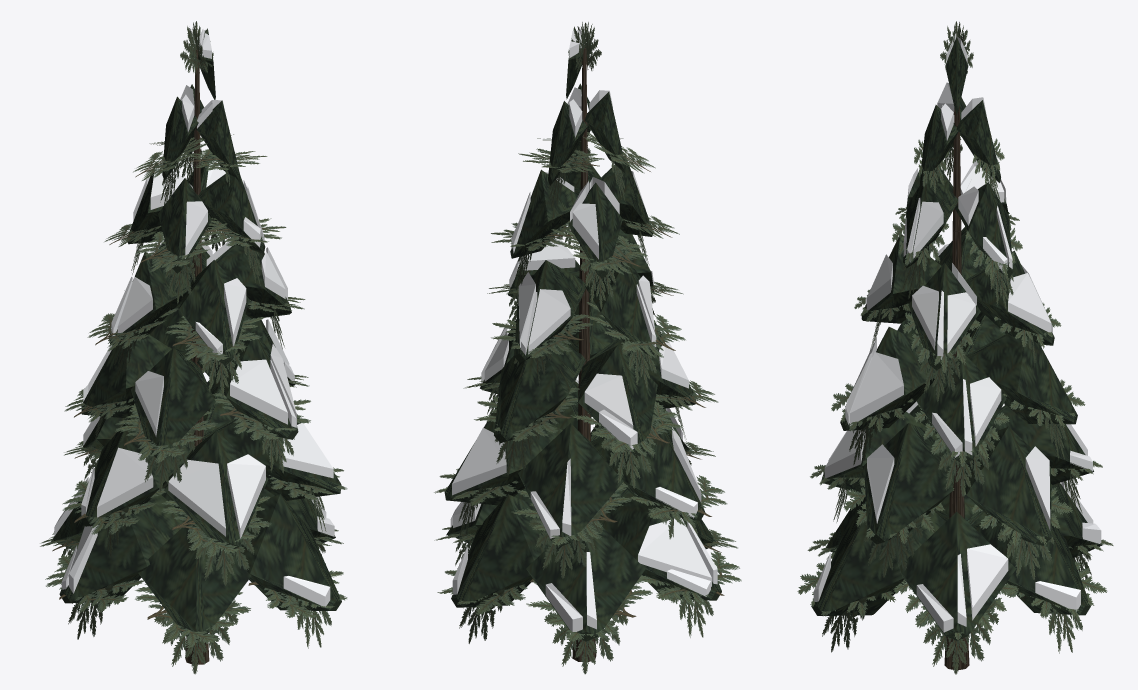
The model's file is tree_snow_02.glb.
The picture shows the model from 3 angles, left to right: view 1: azimuth 30°, elevation 25°; view 2: azimuth 150°, elevation 25°; view 3: azimuth 270°, elevation 25°; orthographic projection.
Visible parts, largest first — view 1: canonical_base, snow_accumulation; view 2: canonical_base, snow_accumulation; view 3: canonical_base, snow_accumulation.
Part boxes in pixels (box(x1,y1,x2,y2)): canonical_base: box(40, 21, 347, 674); snow_accumulation: box(54, 29, 334, 607); canonical_base: box(434, 22, 741, 674); snow_accumulation: box(450, 27, 717, 631); canonical_base: box(797, 21, 1113, 674); snow_accumulation: box(813, 33, 1101, 632).
Size of the model in its own units: 3.2 by 6.8 by 3.2.
4 materials, 3 textured.
